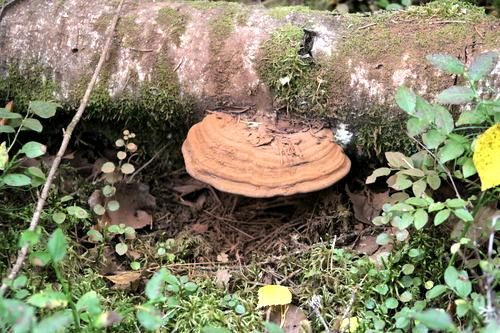Ganoderma - Fruit Body: (180, 108, 352, 199)
